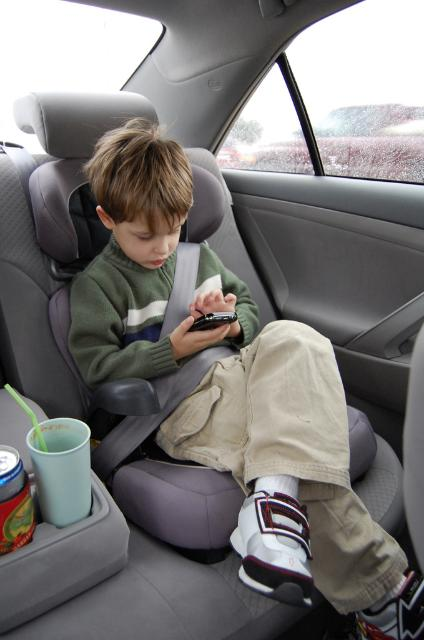Seatbelt: (90, 243, 238, 484), (91, 242, 199, 486)
